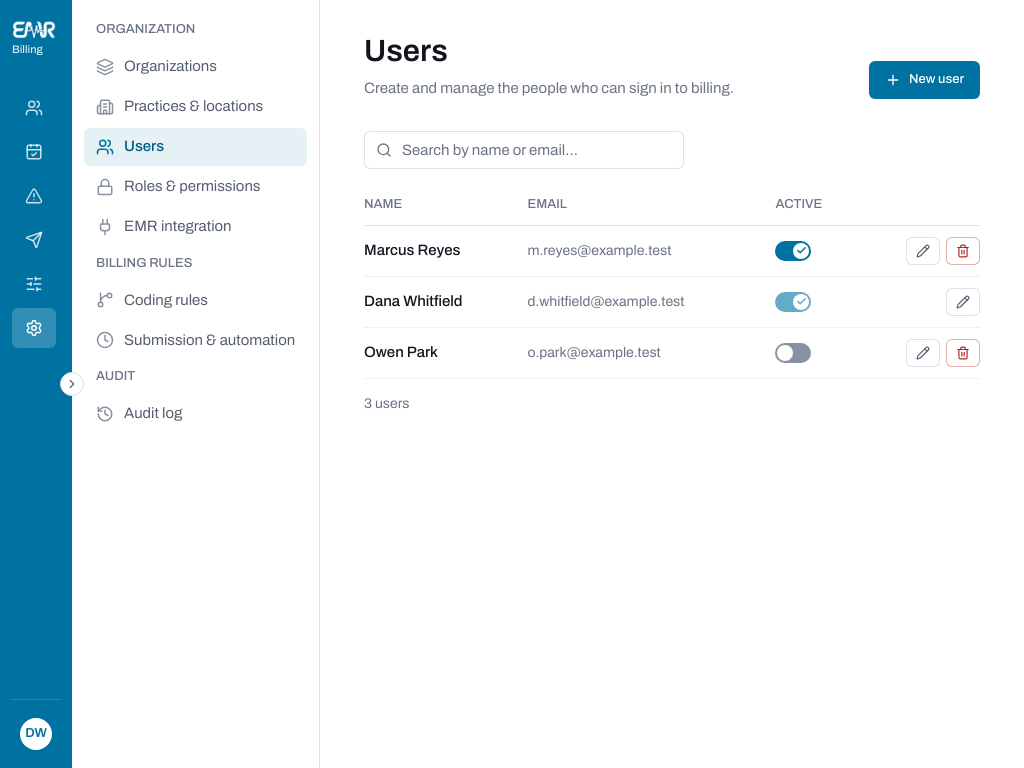
Test: Admin → Users › searches on the server by name or email
Expected: the text "3 users" is shown, [364,392,409,414]
Type "o.park" into the search field named "Search users by name or email" at (537, 150), box [402,131,672,169]
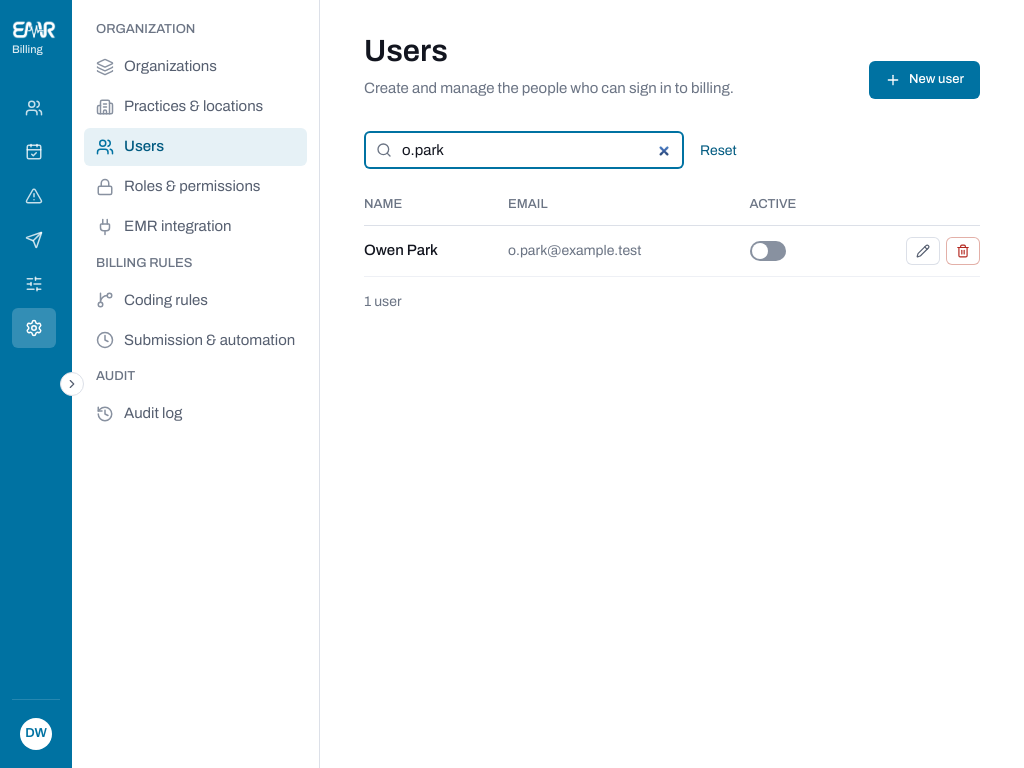
Result: the text "1 user" is shown at [364,290,402,312]
Type "zz" into the search field named "Search users by name or email" at (537, 150), box [402,131,672,169]
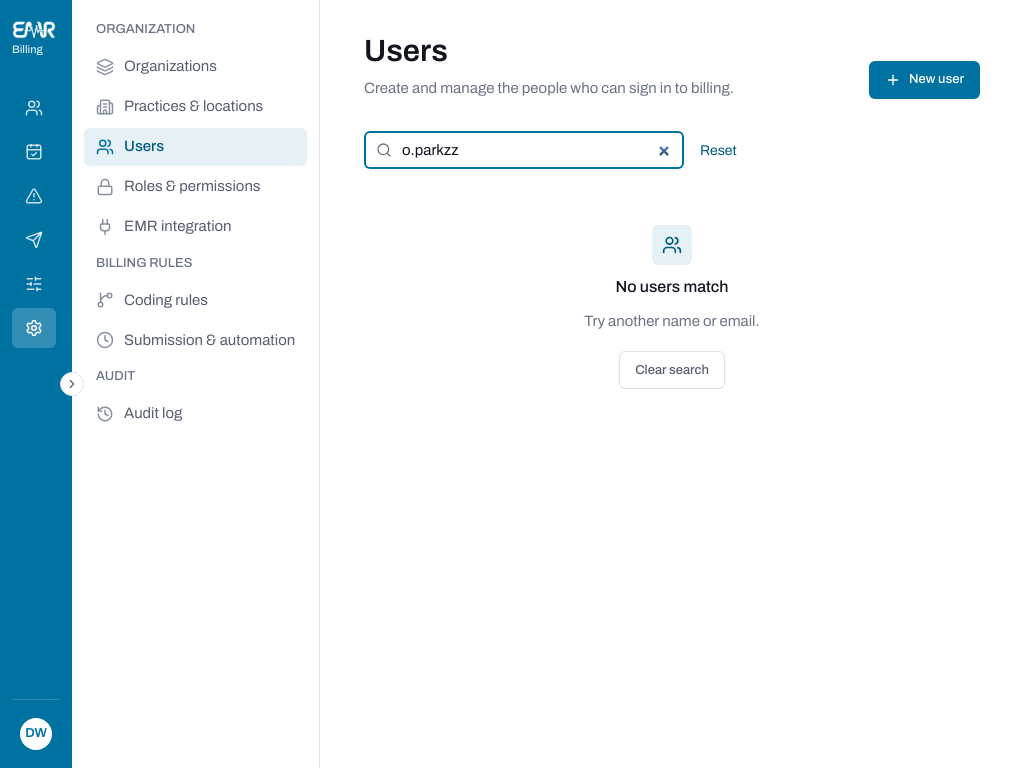
Result: the text "No users match" is shown at [616,275,729,299]
Click the button "Clear search" at (672, 370), box [619,351,725,389]
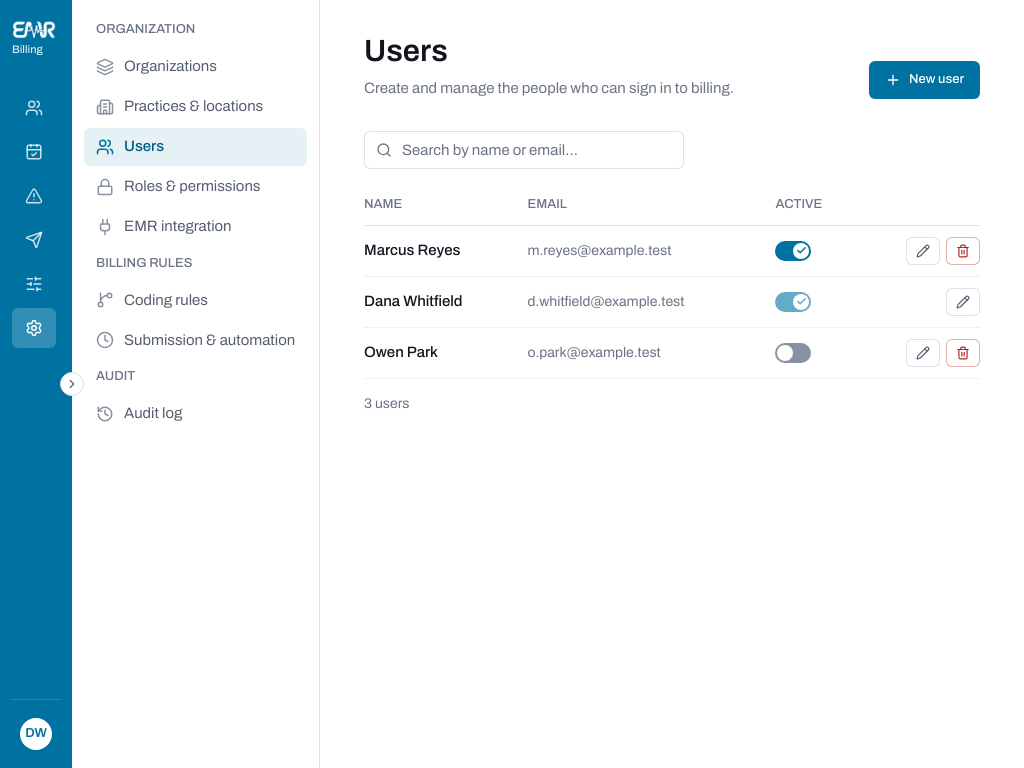
Result: the text "3 users" is shown at [364,392,409,414]
